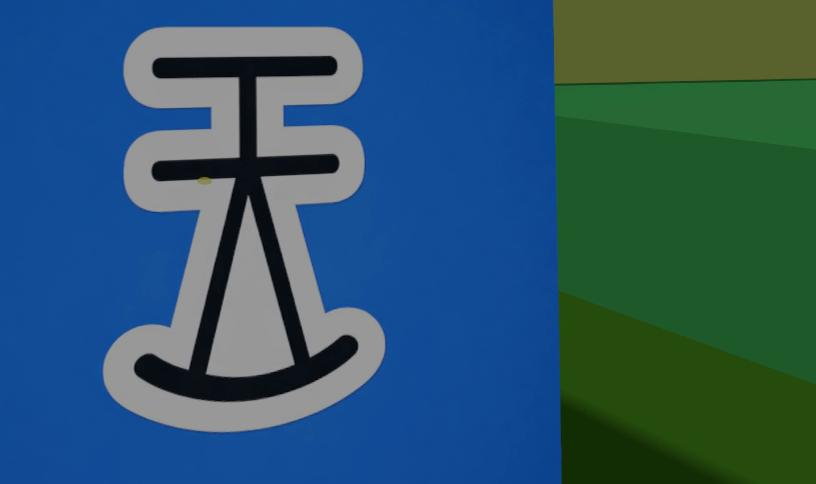KFS_REAL: (0, 0, 559, 483), (104, 27, 382, 431)
